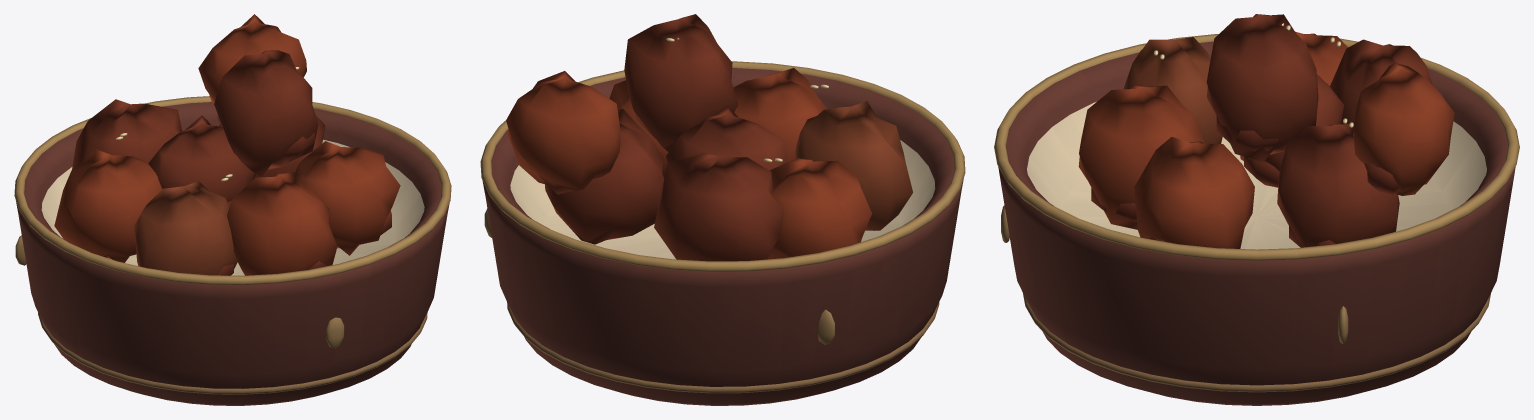
The model's file is dakgangjeong.glb.
3 renders of one model, left to right at view 1: azimuth 30°, elevation 25°; view 2: azimuth 150°, elevation 25°; view 3: azimuth 270°, elevation 25°, orthographic. The views are drawn at different scales.
Parts seen in each view (by area): view 1: Burgundy_festival_basket, Sticky_spiced_chicken_07_irregular_glazed_bite, Sticky_spiced_chicken_01_irregular_glazed_bite, Sticky_spiced_chicken_03_irregular_glazed_bite, Sticky_spiced_chicken_00_irregular_glazed_bite, Antique_brass_basket_rim, Sticky_spiced_chicken_02_irregular_glazed_bite, Sticky_spiced_chicken_04_irregular_glazed_bite, Sticky_spiced_chicken_06_irregular_glazed_bite, Warm_cream_basket_lining, Sticky_spiced_chicken_08_irregular_glazed_bite, Basket_lower_brass_band (+3 smaller); view 2: Burgundy_festival_basket, Sticky_spiced_chicken_06_irregular_glazed_bite, Sticky_spiced_chicken_07_irregular_glazed_bite, Sticky_spiced_chicken_08_irregular_glazed_bite, Antique_brass_basket_rim, Sticky_spiced_chicken_00_irregular_glazed_bite, Sticky_spiced_chicken_05_irregular_glazed_bite, Sticky_spiced_chicken_03_irregular_glazed_bite, Warm_cream_basket_lining, Sticky_spiced_chicken_01_irregular_glazed_bite, Sticky_spiced_chicken_04_irregular_glazed_bite, Basket_lower_brass_band (+2 smaller); view 3: Burgundy_festival_basket, Warm_cream_basket_lining, Sticky_spiced_chicken_07_irregular_glazed_bite, Sticky_spiced_chicken_02_irregular_glazed_bite, Sticky_spiced_chicken_05_irregular_glazed_bite, Antique_brass_basket_rim, Sticky_spiced_chicken_01_irregular_glazed_bite, Sticky_spiced_chicken_08_irregular_glazed_bite, Sticky_spiced_chicken_00_irregular_glazed_bite, Basket_lower_brass_band, Sticky_spiced_chicken_06_irregular_glazed_bite, Sticky_spiced_chicken_03_irregular_glazed_bite (+4 smaller).
Part boxes in pixels (<box>): Burgundy_festival_basket: <box>16,102,449,405</box>; Sticky_spiced_chicken_07_irregular_glazed_bite: <box>214,50,318,177</box>; Sticky_spiced_chicken_01_irregular_glazed_bite: <box>227,172,337,275</box>; Sticky_spiced_chicken_03_irregular_glazed_bite: <box>54,149,162,262</box>; Sticky_spiced_chicken_00_irregular_glazed_bite: <box>134,181,237,275</box>; Antique_brass_basket_rim: <box>14,96,451,284</box>; Sticky_spiced_chicken_02_irregular_glazed_bite: <box>295,141,400,255</box>; Sticky_spiced_chicken_04_irregular_glazed_bite: <box>148,115,256,201</box>; Sticky_spiced_chicken_06_irregular_glazed_bite: <box>72,99,182,169</box>; Warm_cream_basket_lining: <box>41,139,424,275</box>; Sticky_spiced_chicken_08_irregular_glazed_bite: <box>198,14,306,103</box>; Basket_lower_brass_band: <box>38,312,427,394</box>; Burgundy_festival_basket: <box>482,68,963,405</box>; Sticky_spiced_chicken_06_irregular_glazed_bite: <box>654,153,784,261</box>; Sticky_spiced_chicken_07_irregular_glazed_bite: <box>624,14,738,151</box>; Sticky_spiced_chicken_08_irregular_glazed_bite: <box>506,71,620,194</box>; Antique_brass_basket_rim: <box>480,61,965,271</box>; Sticky_spiced_chicken_00_irregular_glazed_bite: <box>795,101,912,230</box>; Sticky_spiced_chicken_05_irregular_glazed_bite: <box>545,108,664,244</box>; Sticky_spiced_chicken_03_irregular_glazed_bite: <box>768,158,872,259</box>; Warm_cream_basket_lining: <box>510,140,935,259</box>; Sticky_spiced_chicken_01_irregular_glazed_bite: <box>733,68,827,162</box>; Sticky_spiced_chicken_04_irregular_glazed_bite: <box>666,106,787,170</box>; Basket_lower_brass_band: <box>507,302,939,393</box>; Burgundy_festival_basket: <box>998,41,1515,405</box>; Warm_cream_basket_lining: <box>1027,101,1486,249</box>; Sticky_spiced_chicken_07_irregular_glazed_bite: <box>1206,14,1318,161</box>; Sticky_spiced_chicken_02_irregular_glazed_bite: <box>1134,137,1254,248</box>; Sticky_spiced_chicken_05_irregular_glazed_bite: <box>1277,123,1399,247</box>; Antique_brass_basket_rim: <box>994,34,1519,260</box>; Sticky_spiced_chicken_01_irregular_glazed_bite: <box>1078,85,1204,229</box>; Sticky_spiced_chicken_08_irregular_glazed_bite: <box>1353,63,1454,195</box>; Sticky_spiced_chicken_00_irregular_glazed_bite: <box>1123,37,1222,143</box>; Basket_lower_brass_band: <box>1023,293,1490,392</box>; Sticky_spiced_chicken_06_irregular_glazed_bite: <box>1330,39,1432,123</box>; Sticky_spiced_chicken_03_irregular_glazed_bite: <box>1295,31,1347,86</box>.
Size of the model in its own units: 0.834 by 0.5826 by 0.834.
